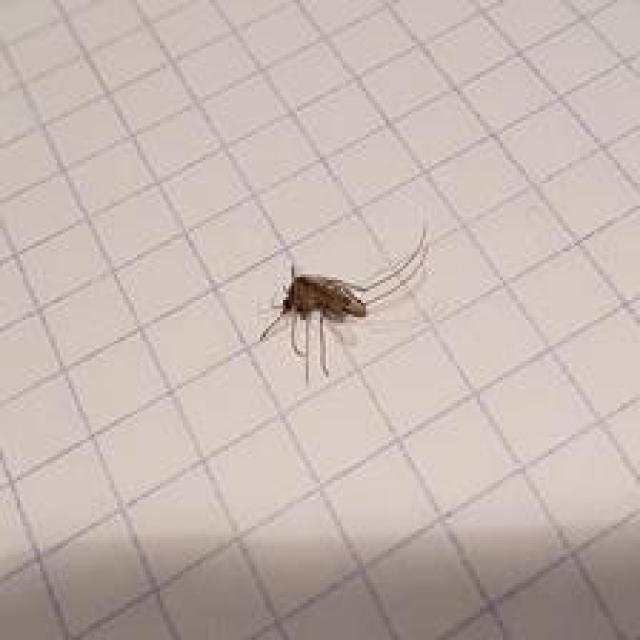Culex: (256, 222, 430, 384)
